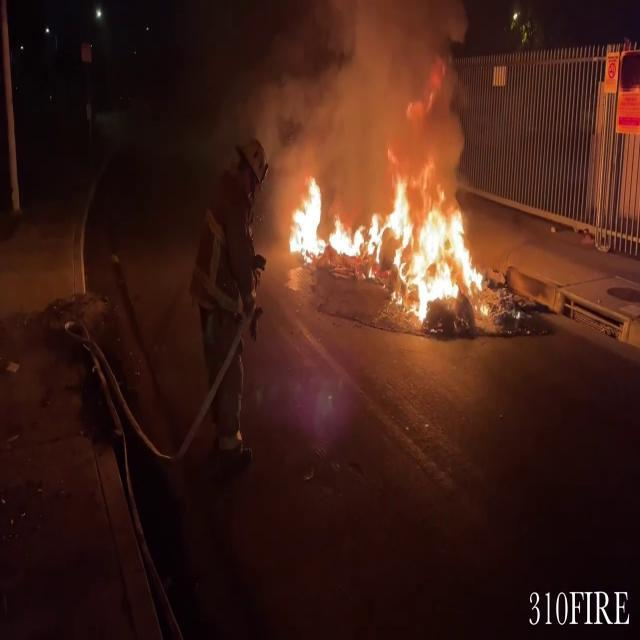Fire: (282, 151, 492, 326)
Smoke: (118, 0, 482, 180)
